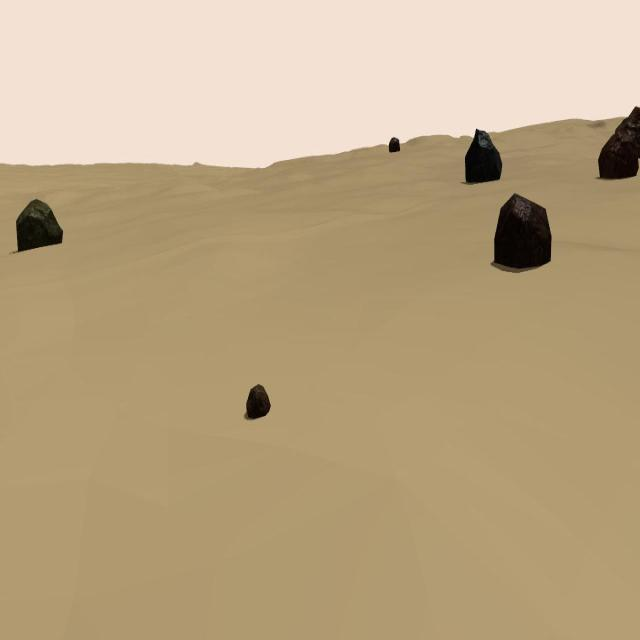rock: (494, 193, 552, 269), (16, 198, 63, 250), (464, 128, 502, 184), (598, 131, 638, 178), (616, 107, 640, 155), (247, 386, 271, 421), (389, 137, 400, 152)
